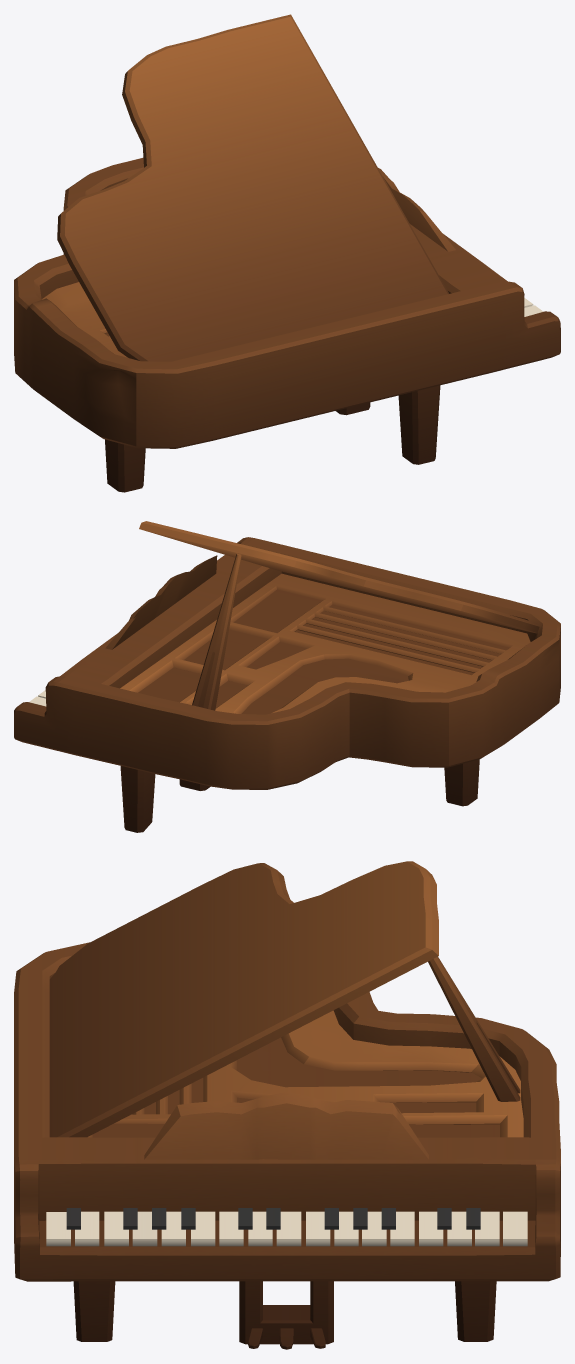
File: Piano.fbx
3 views of the same model, one above another, from view 1: azimuth 30°, elevation 25°; view 2: azimuth 150°, elevation 25°; view 3: azimuth 270°, elevation 25° (orthographic). The views are drawn at different scales.
Parts seen in each view (by area): view 1: Piano; view 2: Piano; view 3: Piano.
Boxes of the visible parts, x1=… form: Piano: x1=14, y1=14, x2=560, y2=492; Piano: x1=14, y1=521, x2=560, y2=832; Piano: x1=14, y1=861, x2=560, y2=1349.
Size of the model in its own units: 1.58 by 1.16 by 1.46.
7 materials, 6 textured.
